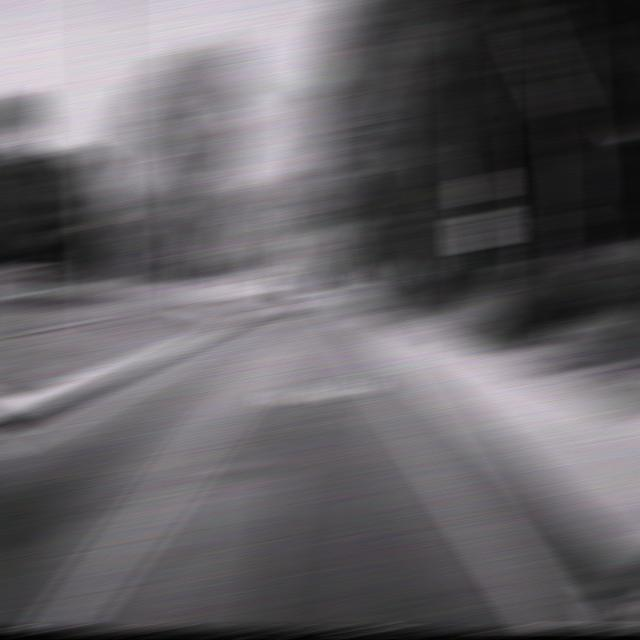speedLimit15: (462, 211, 504, 249)
